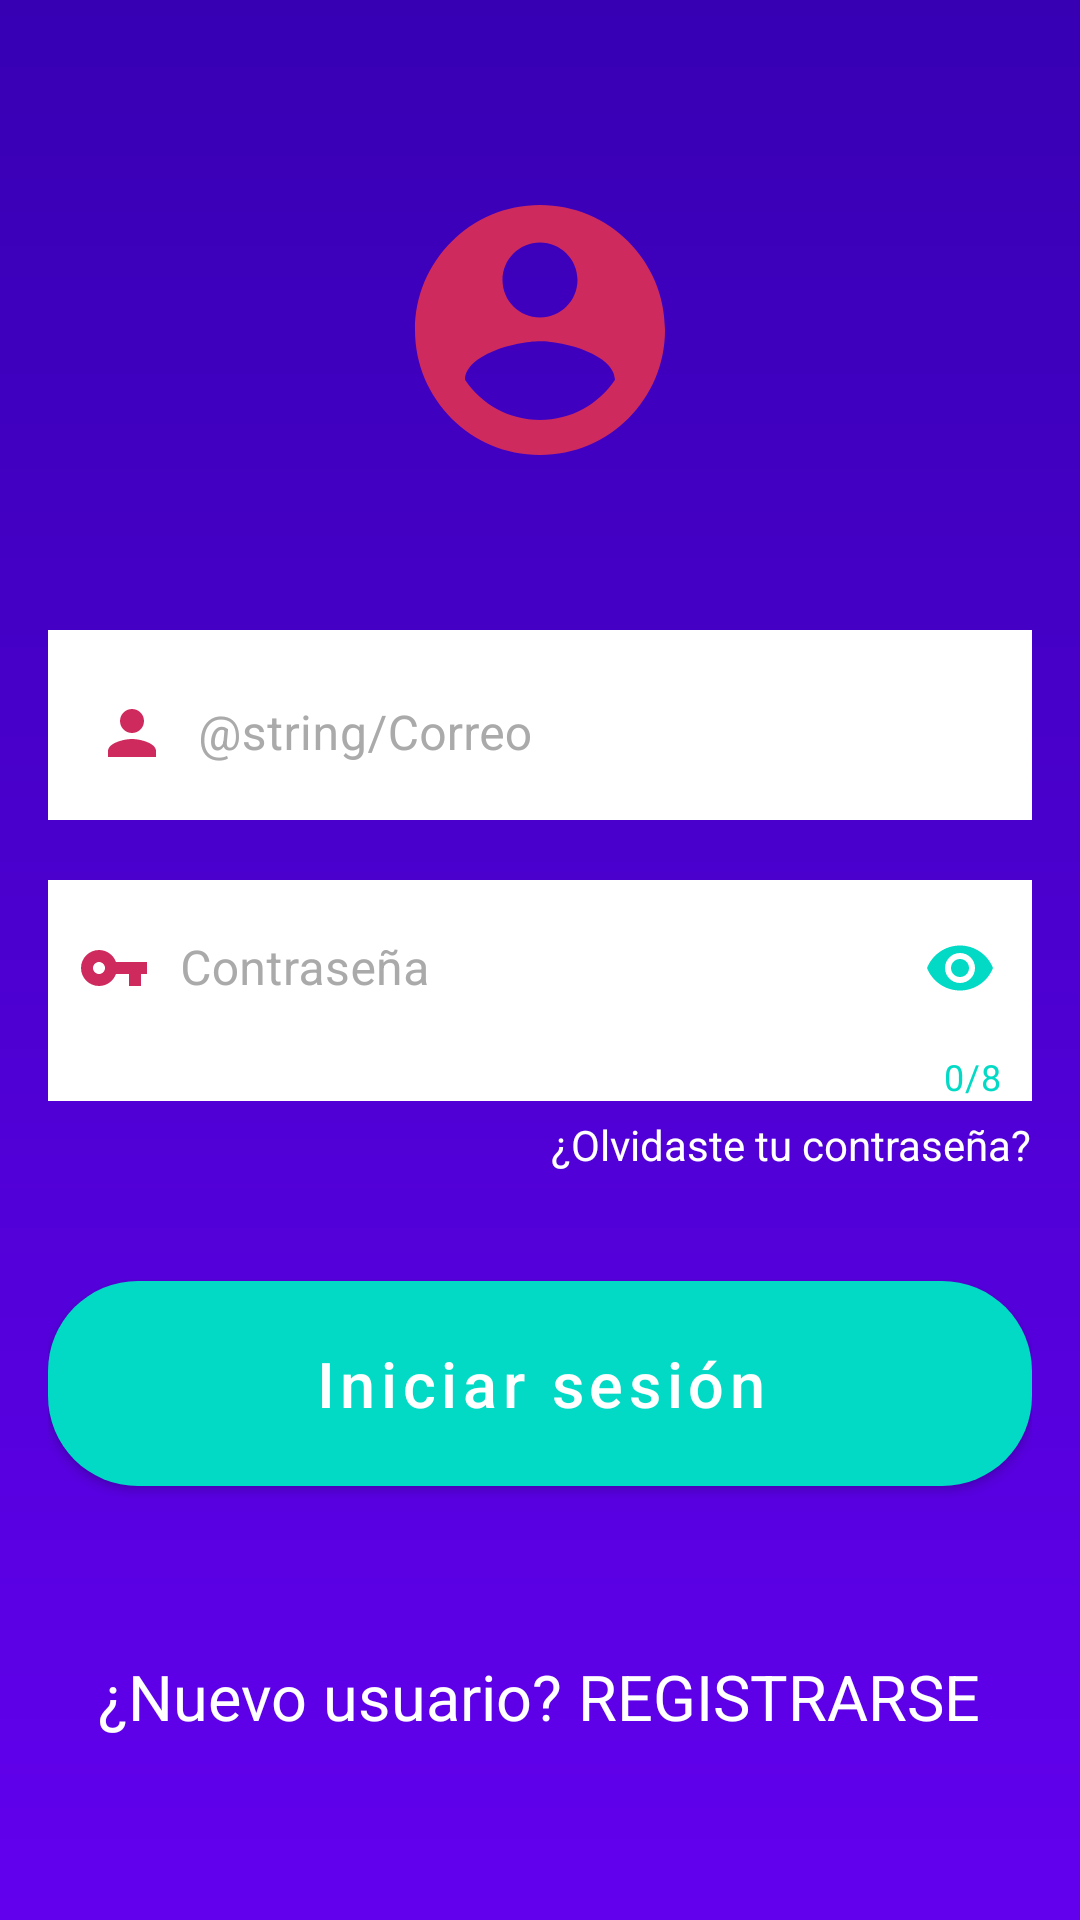

Where icons sit on this 1080*1920 app screen, as box(x1, y1, x2, y2):
account circle: box(415, 205, 665, 455)
